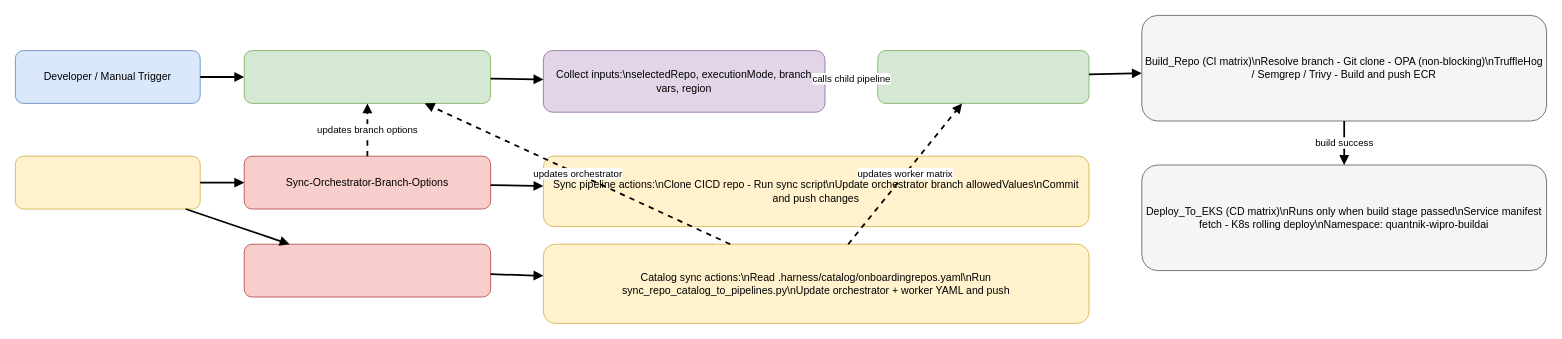
Some shapes in this 1562 by 339 pixel diagram are drawn without their labels. Each missing label, with the box of its shape:
CiCD-BUILDAI-ORCHESTRATOR: (243, 50, 491, 103)
Hourly Scheduled Triggers: (15, 155, 200, 209)
RepoWorkerBuildDeploy: (877, 50, 1089, 103)
Sync-OnboardingRepos-Catalog: (243, 243, 491, 297)
